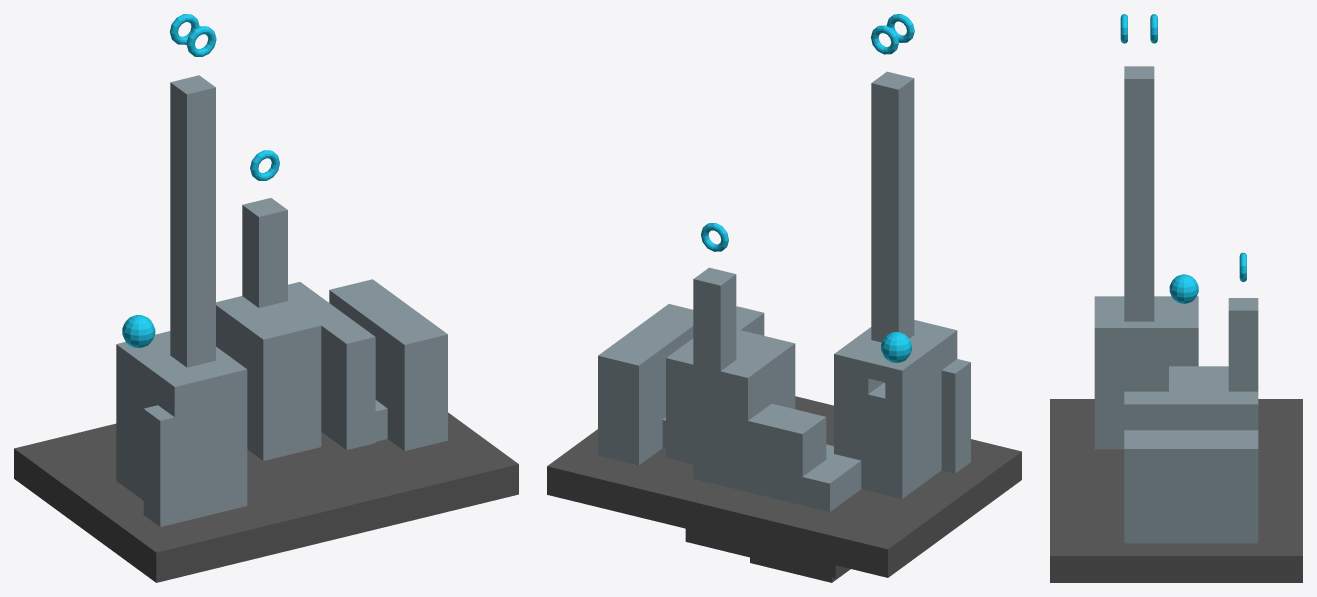
The model's file is simpleFloatingCity.glb.
3 views of the same model, side by side, from view 1: azimuth 30°, elevation 25°; view 2: azimuth 150°, elevation 25°; view 3: azimuth 270°, elevation 25° (orthographic). The views are drawn at different scales.
Parts seen in each view (by area): view 1: group78636116, group643700558, group300581041, group2041764884, group1919748899, group774827138, group430196053, group184670419, group1035333625, group1020112102; view 2: group78636116, group643700558, group300581041, group2041764884, group1919748899, group1253047627, group430196053, group774827138, group1035333625, group2029266739, group873809351, group184670419 (+1 smaller); view 3: group78636116, group1919748899, group643700558, group300581041, group774827138, group430196053, group2041764884, group1020112102.
Part boxes in pixels (x1,y1,x2,y2): group78636116: [14, 412, 518, 582]; group643700558: [116, 331, 247, 523]; group300581041: [170, 75, 215, 367]; group2041764884: [216, 296, 321, 460]; group1919748899: [329, 279, 447, 451]; group774827138: [288, 282, 375, 449]; group430196053: [242, 198, 287, 307]; group184670419: [43, 423, 385, 482]; group1035333625: [143, 405, 174, 526]; group1020112102: [122, 315, 155, 348]; group78636116: [547, 396, 1021, 577]; group643700558: [834, 320, 957, 498]; group300581041: [871, 71, 914, 342]; group2041764884: [693, 330, 795, 491]; group1919748899: [598, 304, 693, 465]; group1253047627: [748, 403, 826, 505]; group430196053: [693, 267, 736, 371]; group774827138: [666, 306, 764, 464]; group1035333625: [941, 359, 970, 473]; group2029266739: [777, 444, 861, 511]; group873809351: [685, 529, 848, 578]; group184670419: [788, 430, 875, 569]; group78636116: [1050, 399, 1302, 582]; group1919748899: [1124, 430, 1258, 543]; group643700558: [1094, 296, 1198, 449]; group300581041: [1124, 66, 1154, 321]; group774827138: [1124, 391, 1258, 430]; group430196053: [1228, 298, 1258, 391]; group2041764884: [1169, 366, 1228, 391]; group1020112102: [1169, 274, 1198, 303].
Bounding box in the file's own units: 0.25 × 0.3725 × 0.17.
